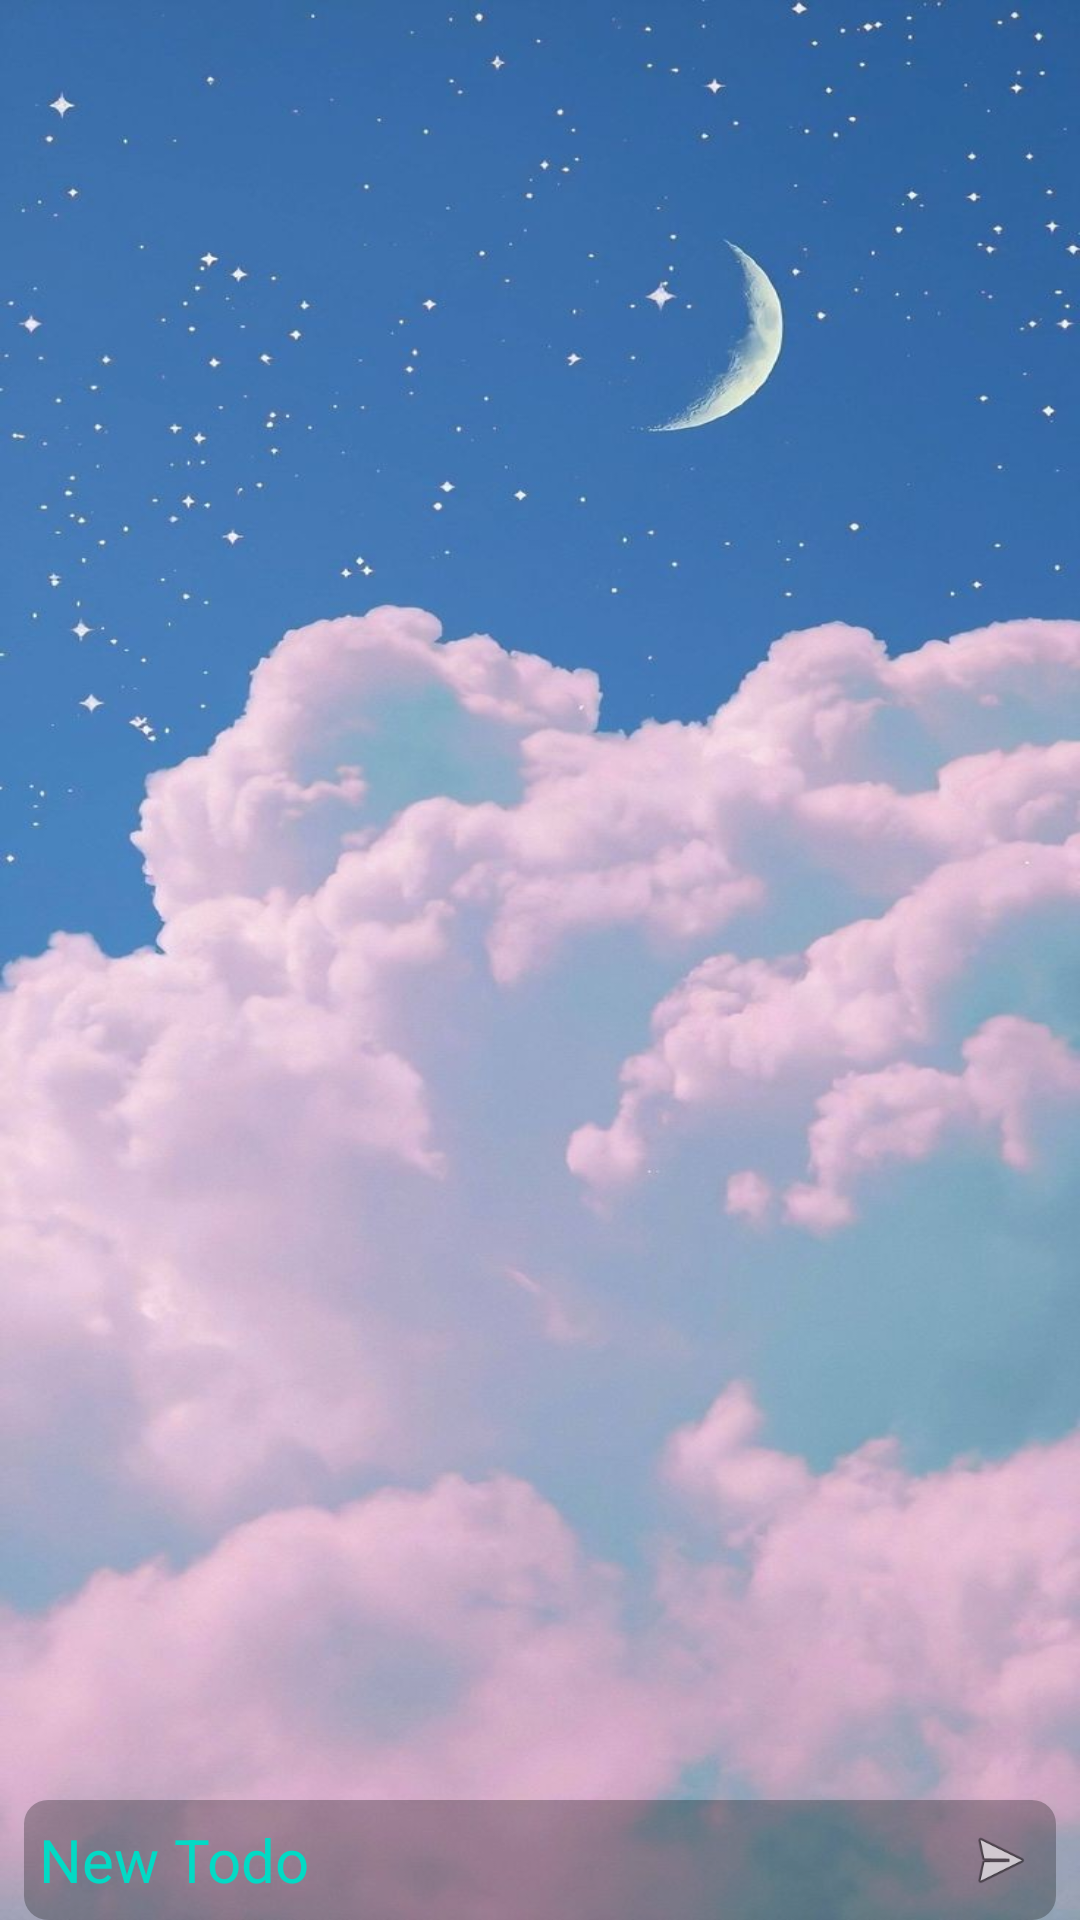

Icons on this 1080x1920 Android screen, each with the point to tap as (x=x, y=y):
send: (x=1001, y=1860)
